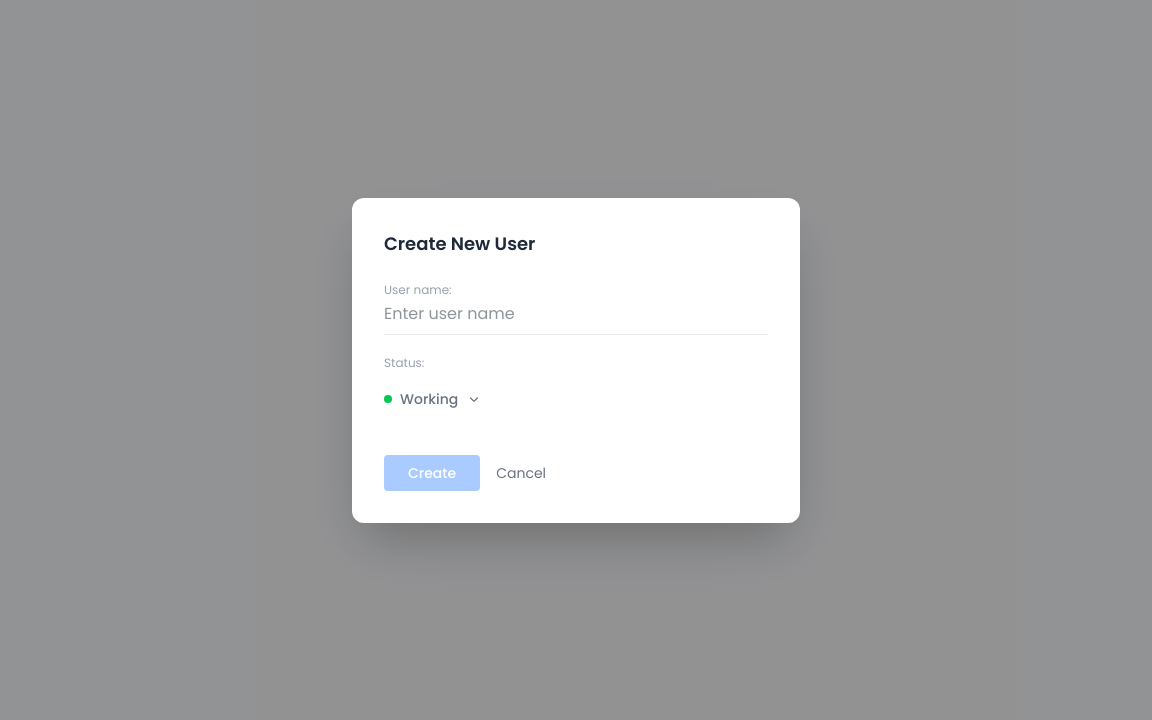
Test case: CreateEmployeeModal › enables Create button when name is not empty
Step 1. Type "John" into the field with placeholder "Enter user name" → (576, 318), box [384,302,768,334]
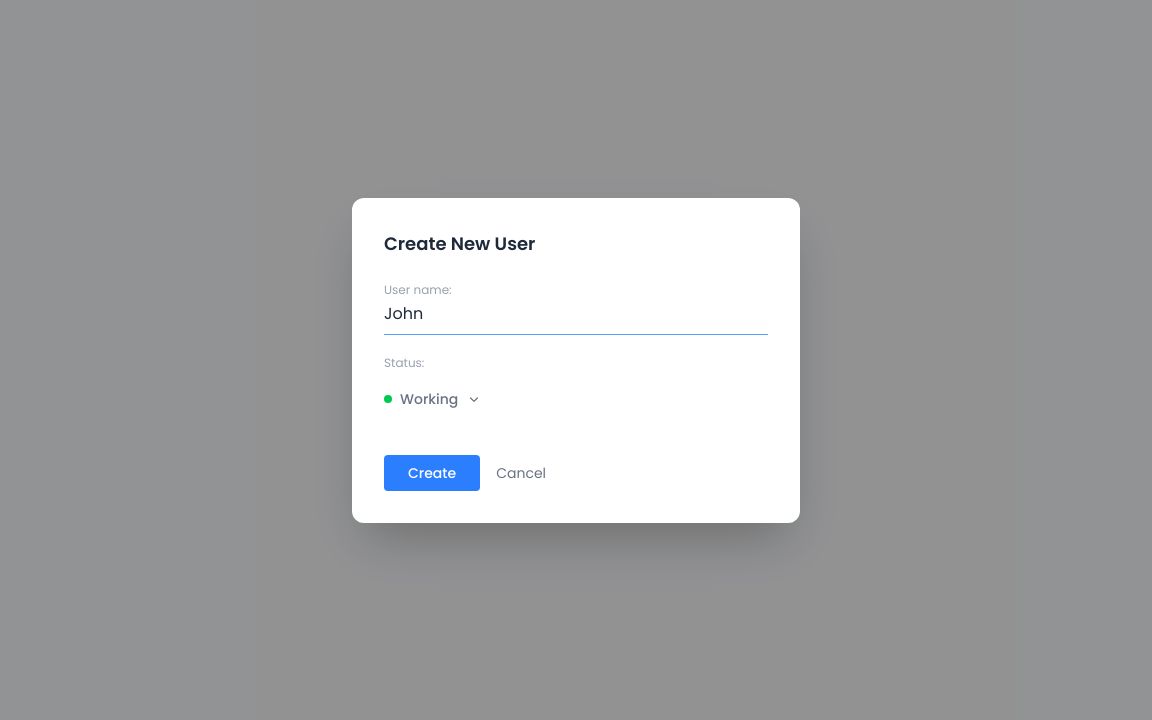
expect the button "Create" is enabled: met, box [384,454,480,490]
